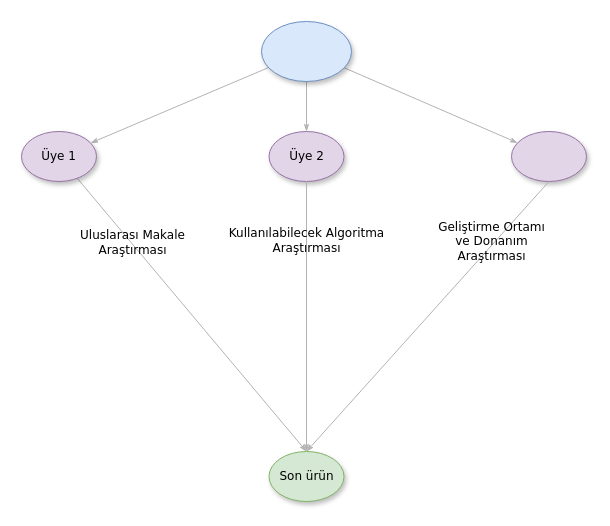
Some shapes in this 610 by 526 pixel diagram are drawn without their labels. Each missing label, with the centre of its shape:
"Kaptan" belongs at point 307,52.
"Üye 3" belongs at point 549,157.
